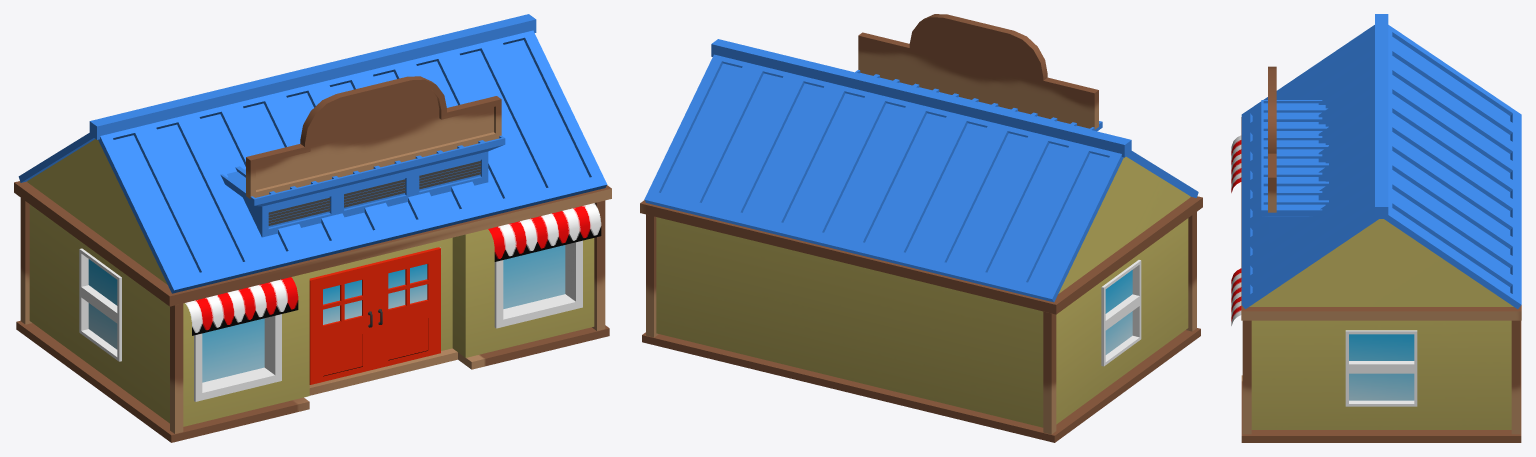
Rendered from house3.fbx.
3 views of the same model, side by side, from view 1: azimuth 30°, elevation 25°; view 2: azimuth 150°, elevation 25°; view 3: azimuth 270°, elevation 25° (orthographic). The views are drawn at different scales.
Parts seen in each view (by area): view 1: house3, parasol, Cube.009, Cube.004; view 2: house3; view 3: house3, parasol.
Boxes of the visible parts, x1,y1,x2,y2 form: house3: (14,14,611,442); parasol: (185,203,601,335); Cube.009: (309,263,375,384); Cube.004: (373,247,440,368); house3: (640,14,1202,442); house3: (1241,14,1521,442); parasol: (1231,135,1241,325).
Bounding box in the file's own units: 670 × 420 × 423.
